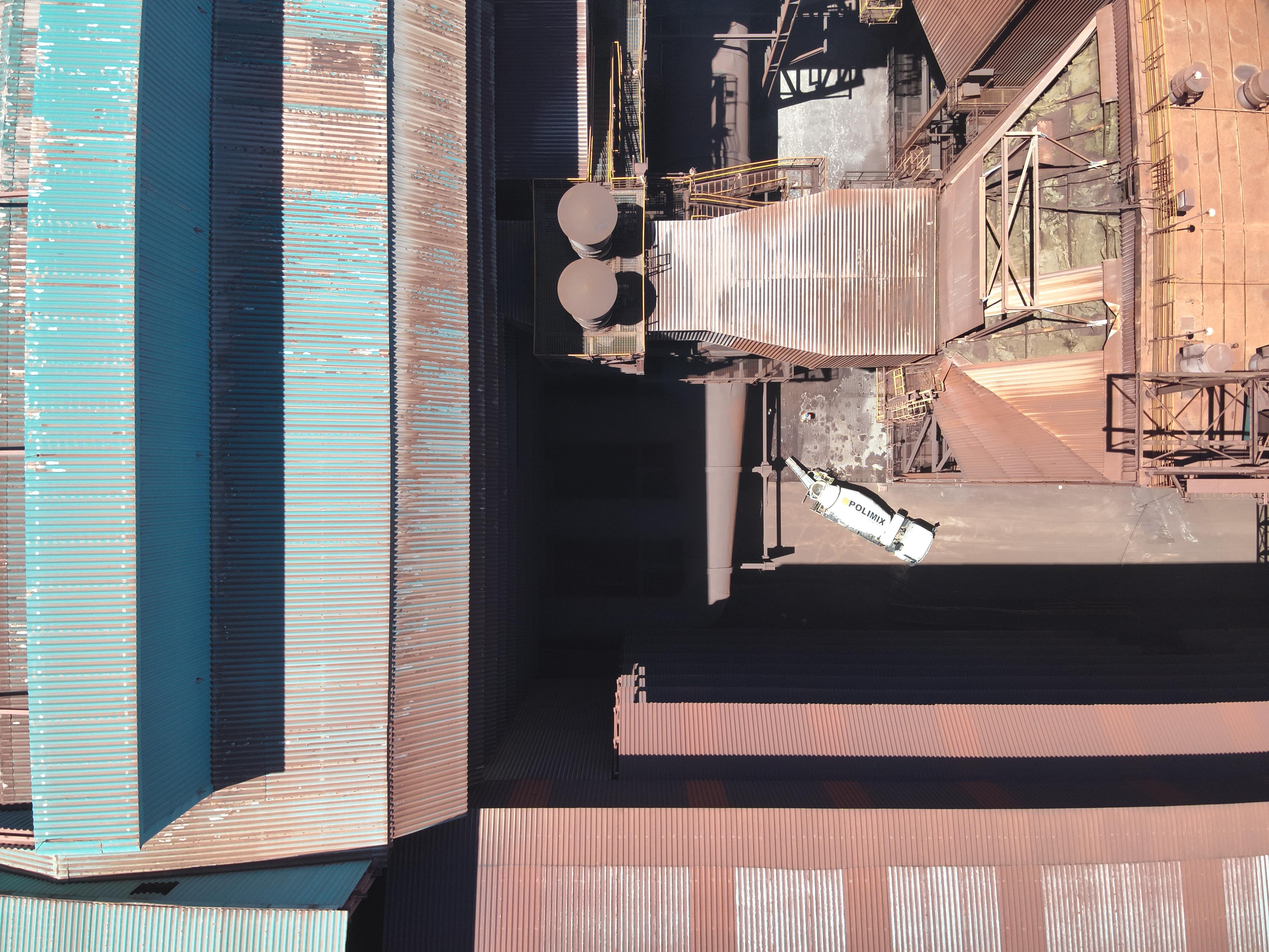Failures: (984, 75, 1129, 367)
